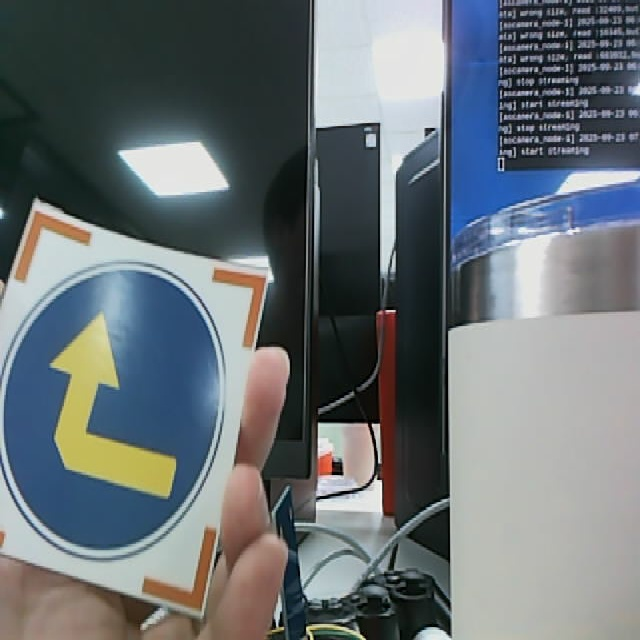right: (1, 198, 272, 623)
